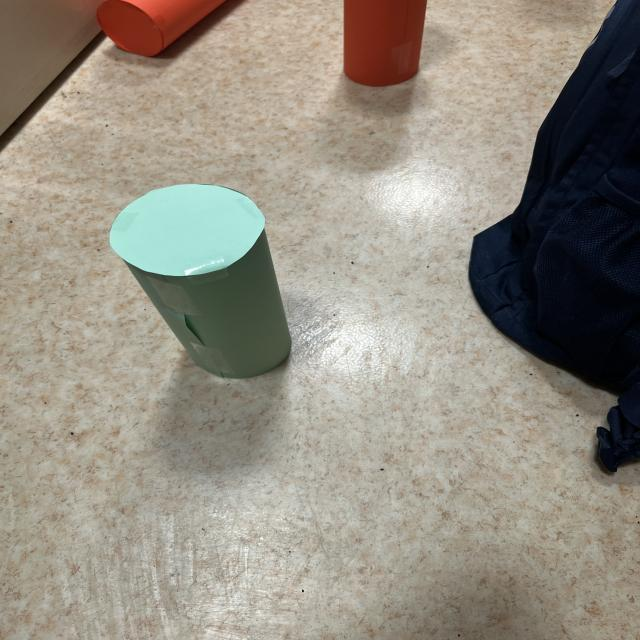meta: (110, 184, 291, 378)
